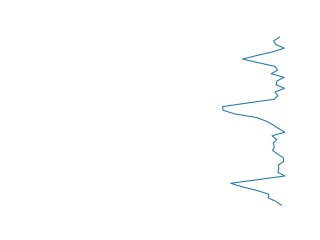underwaterNaturalLevee: (219, 37, 290, 206)
